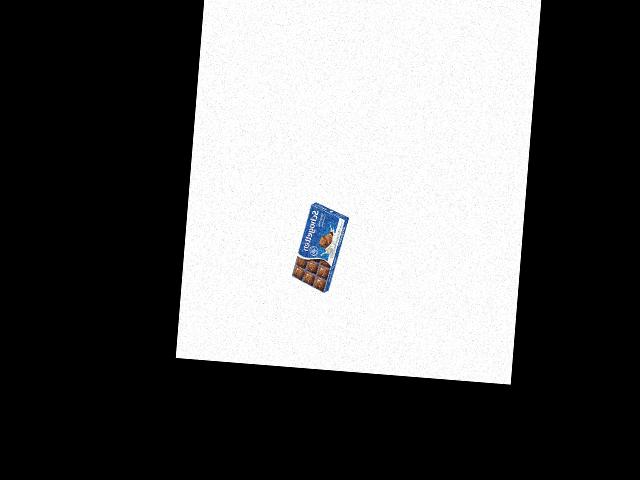chocolate: (290, 199, 343, 294)
